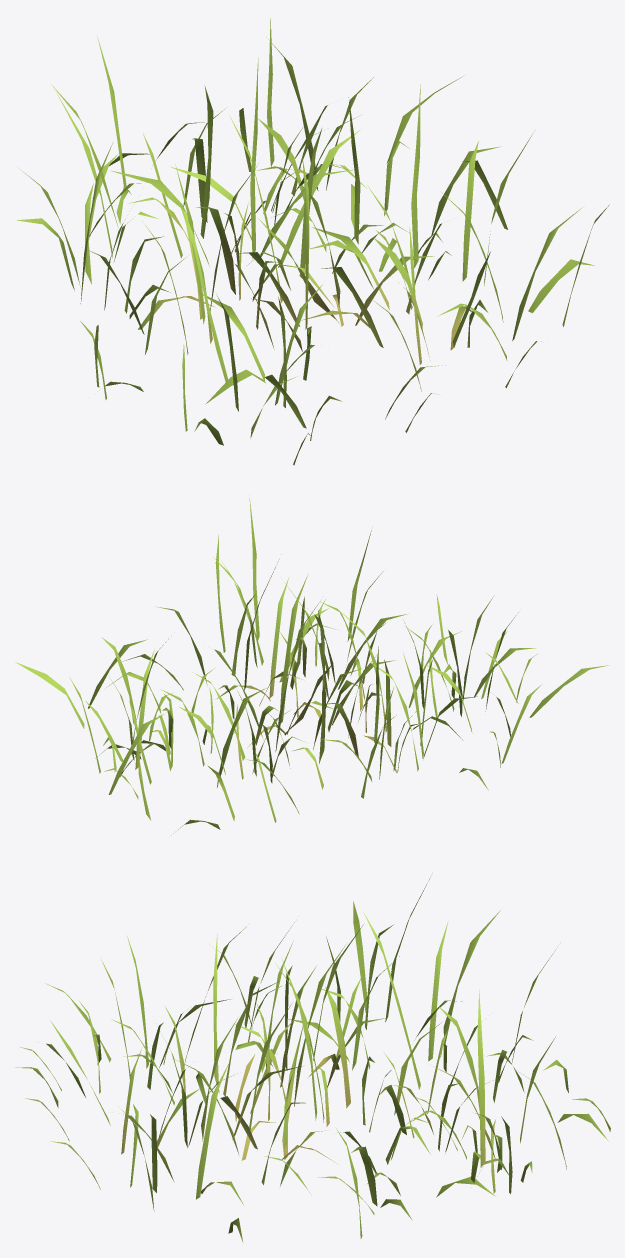
The model's file is capim_bq_a.glb.
3 renders of one model, top to bottom at view 1: azimuth 30°, elevation 25°; view 2: azimuth 150°, elevation 25°; view 3: azimuth 270°, elevation 25°, orthographic. The views are drawn at different scales.
Visible parts, largest first — view 1: capim_bq_a; view 2: capim_bq_a; view 3: capim_bq_a.
Part boxes in pixels (x1,y1,x2,y2): capim_bq_a: [17, 18, 609, 465]; capim_bq_a: [15, 495, 608, 835]; capim_bq_a: [15, 878, 610, 1242].
Bounding box in the file's own units: 21.03 × 9.87 × 23.03.
1 material, 1 textured.
